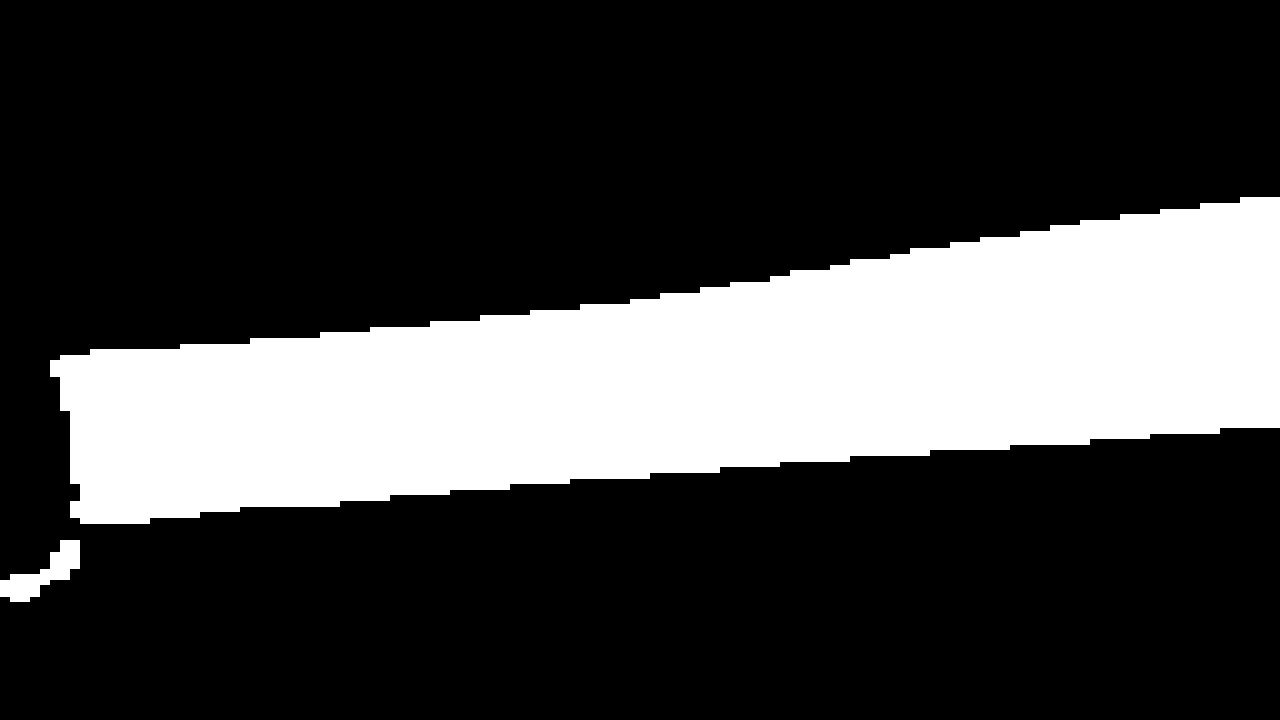Turbine: (37, 170, 1258, 556)
